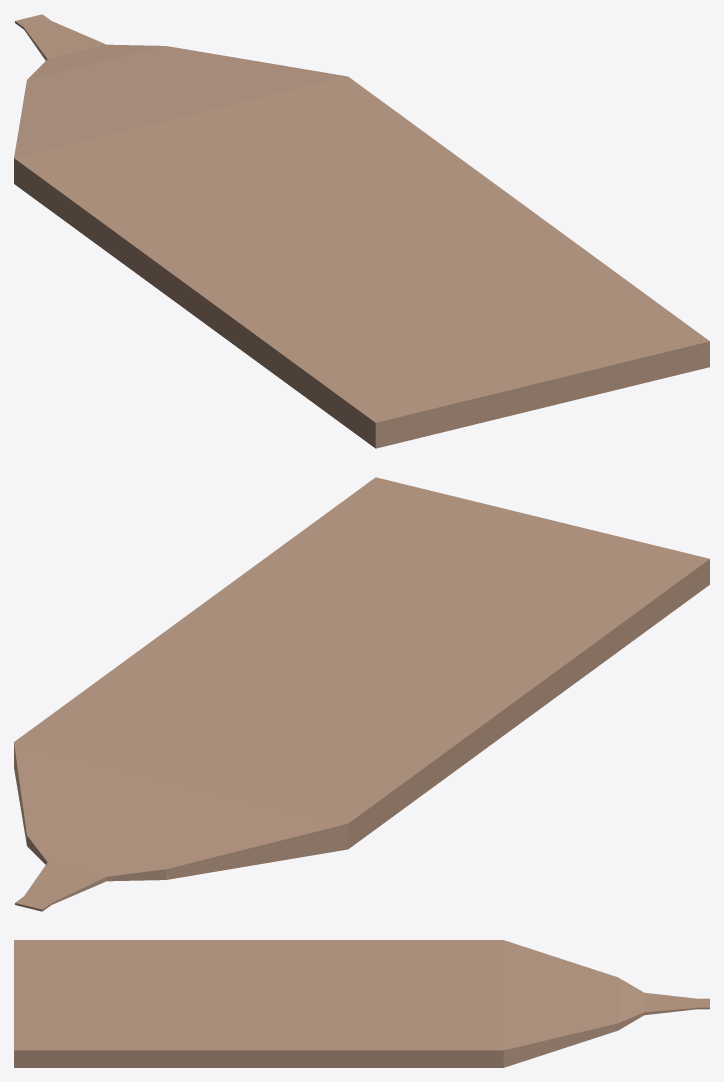
File: pricetTag.fbx
3 views of the same model, one above another, from view 1: azimuth 30°, elevation 25°; view 2: azimuth 150°, elevation 25°; view 3: azimuth 270°, elevation 25° (orthographic). The views are drawn at different scales.
Visible parts, largest first — view 1: Cube; view 2: Cube; view 3: Cube.
Boxes of the visible parts, x1,y1,x2,y2 form: Cube: (14, 14, 709, 448); Cube: (14, 477, 709, 911); Cube: (14, 940, 709, 1067).
Size of the model in its own units: 186 by 13.76 by 496.
